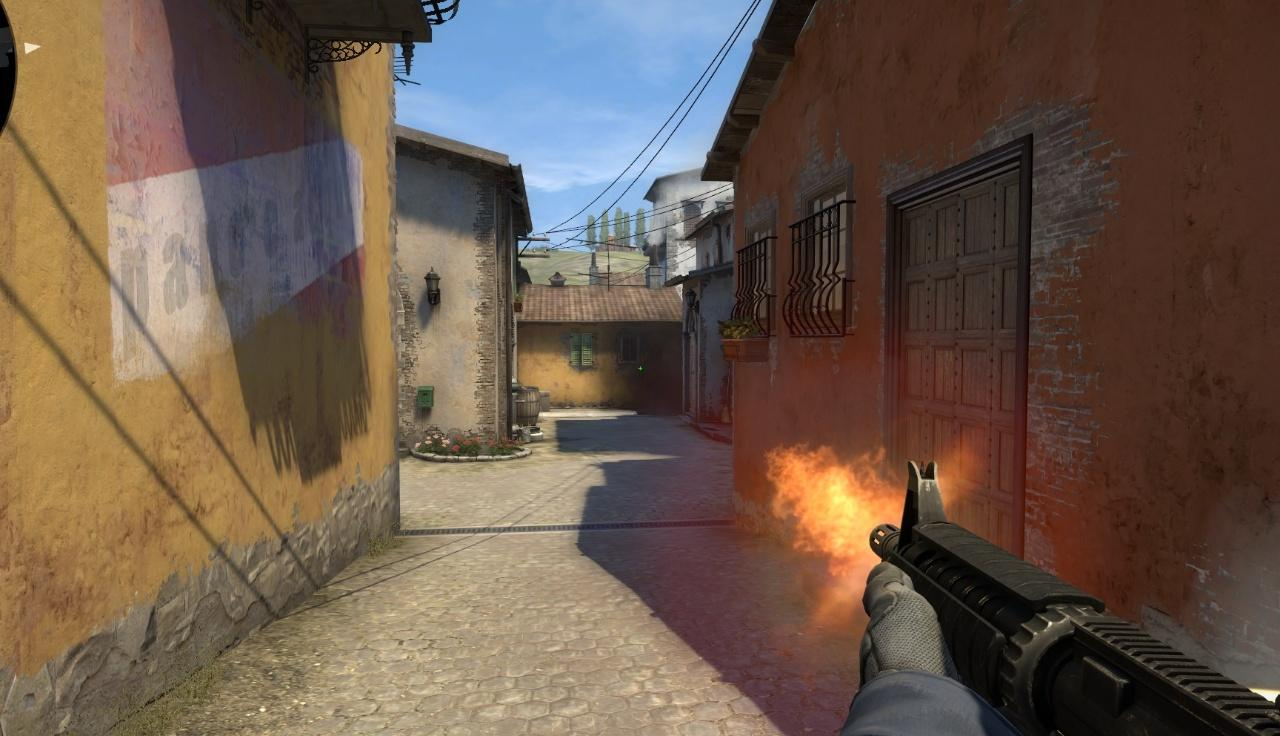rifle: (862, 458, 1280, 736)
